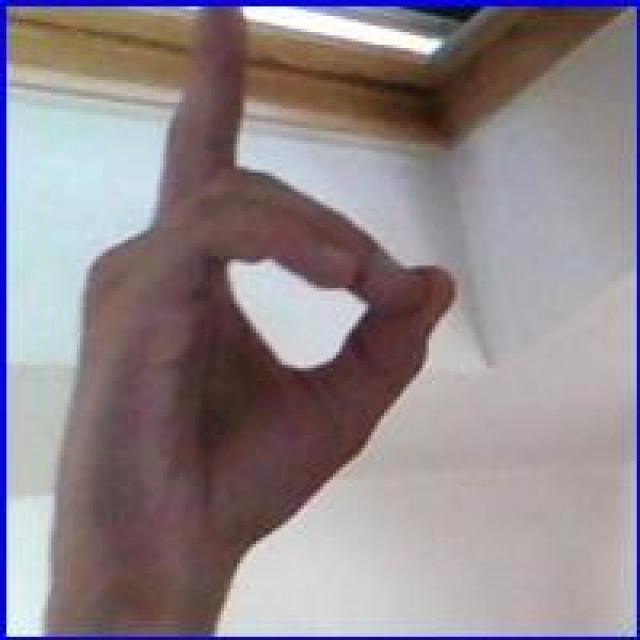D: (80, 3, 474, 592)
